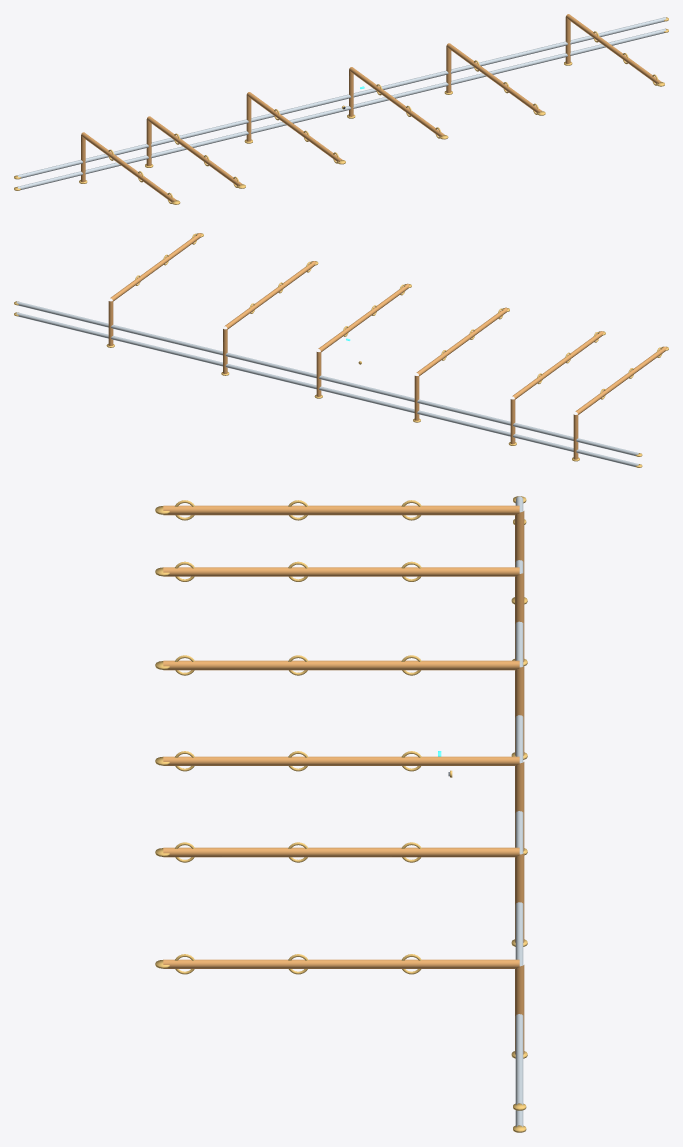
File: 11_L88_ProcessGasOverheadPipeNetwork.glb
3 renders of one model, top to bottom at view 1: azimuth 30°, elevation 25°; view 2: azimuth 150°, elevation 25°; view 3: azimuth 270°, elevation 25°, orthographic. The views are drawn at different scales.
Visible parts, largest first — view 1: L87_ProcessGasOverheadPipeNet_Part_0003, L87_ProcessGasOverheadPipeNet_Part_0000, L87_ProcessGasOverheadPipeNet_Part_0001, L87_ProcessGasOverheadPipeNet_Part_0002; view 2: L87_ProcessGasOverheadPipeNet_Part_0003, L87_ProcessGasOverheadPipeNet_Part_0000, L87_ProcessGasOverheadPipeNet_Part_0001; view 3: L87_ProcessGasOverheadPipeNet_Part_0000, L87_ProcessGasOverheadPipeNet_Part_0003, L87_ProcessGasOverheadPipeNet_Part_0001, L87_ProcessGasOverheadPipeNet_Part_0002.
Part boxes in pixels (x1,y1,x2,y2): L87_ProcessGasOverheadPipeNet_Part_0003: [17, 17, 666, 189]; L87_ProcessGasOverheadPipeNet_Part_0000: [81, 14, 661, 202]; L87_ProcessGasOverheadPipeNet_Part_0001: [79, 84, 448, 204]; L87_ProcessGasOverheadPipeNet_Part_0002: [14, 17, 668, 190]; L87_ProcessGasOverheadPipeNet_Part_0003: [16, 301, 638, 467]; L87_ProcessGasOverheadPipeNet_Part_0000: [108, 233, 666, 459]; L87_ProcessGasOverheadPipeNet_Part_0001: [314, 283, 668, 461]; L87_ProcessGasOverheadPipeNet_Part_0000: [163, 505, 524, 1054]; L87_ProcessGasOverheadPipeNet_Part_0003: [515, 496, 523, 1126]; L87_ProcessGasOverheadPipeNet_Part_0001: [155, 500, 527, 855]; L87_ProcessGasOverheadPipeNet_Part_0002: [155, 496, 527, 1132].
Size of the model in its own units: 26.85 by 2.08 by 6.9.
